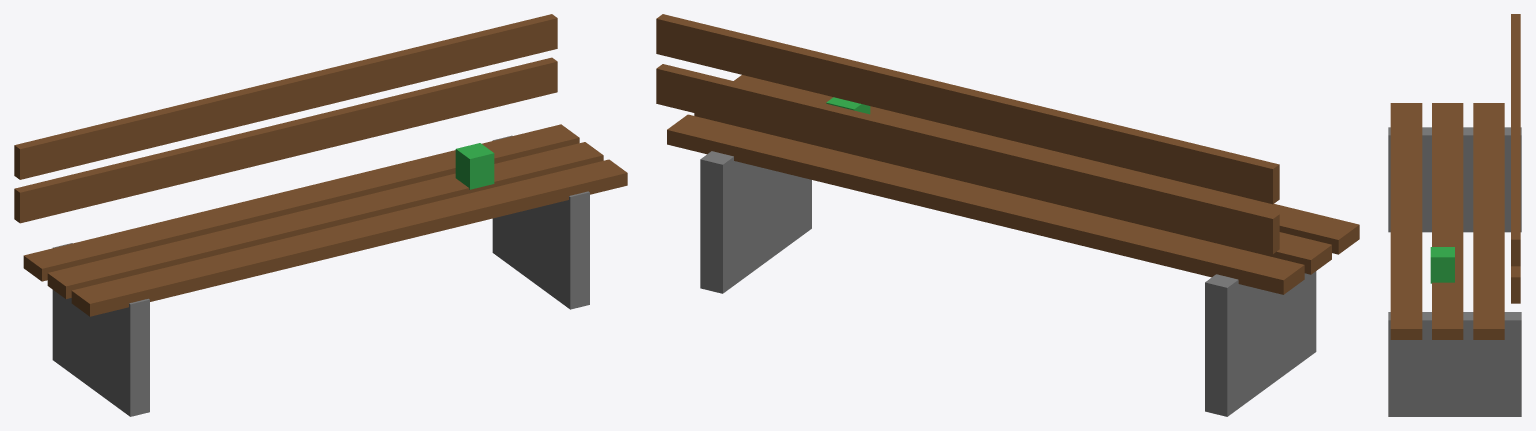
File: bench.glb
3 renders of one model, left to right at view 1: azimuth 30°, elevation 25°; view 2: azimuth 150°, elevation 25°; view 3: azimuth 270°, elevation 25°, orthographic. The views are drawn at different scales.
Parts seen in each view (by area): view 1: bench; view 2: bench; view 3: bench.
Part boxes in pixels (<box>): bench: <box>14,14,627,416</box>; bench: <box>656,14,1359,416</box>; bench: <box>1388,14,1521,416</box>.
Bounding box in the file's own units: 2.2 × 0.88 × 0.55.
